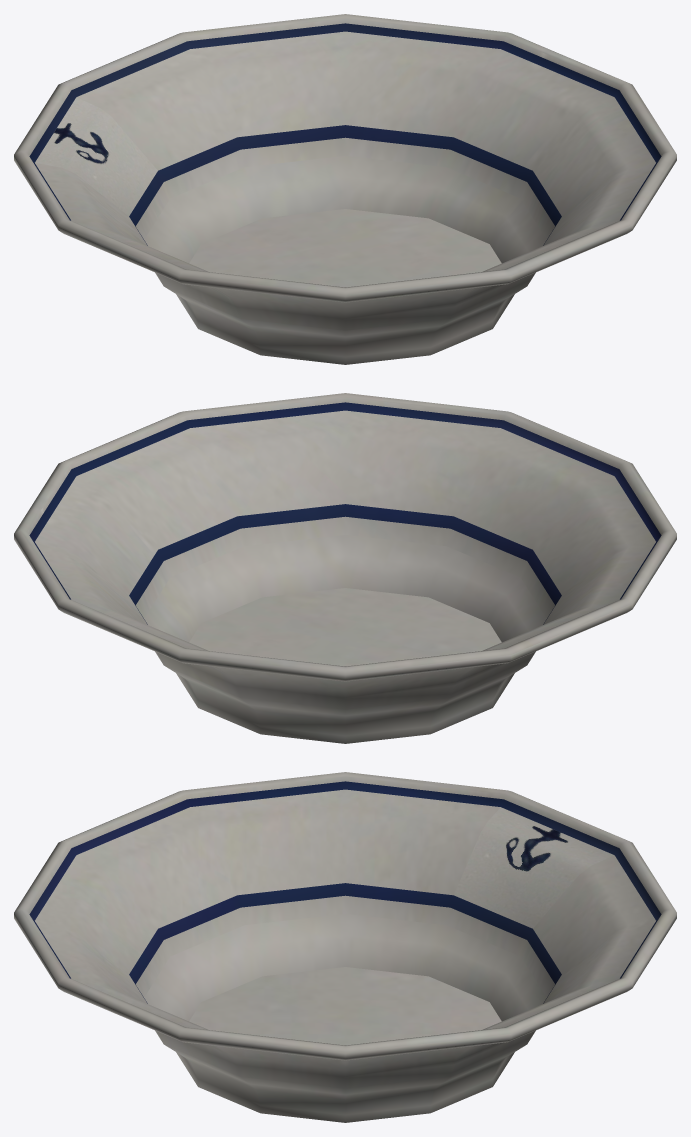
The model's file is Bowl_Galley.obj.
3 renders of one model, top to bottom at view 1: azimuth 30°, elevation 25°; view 2: azimuth 150°, elevation 25°; view 3: azimuth 270°, elevation 25°, orthographic.
Parts seen in each view (by area): view 1: Bowl_Galley.obj; view 2: Bowl_Galley.obj; view 3: Bowl_Galley.obj.
Part boxes in pixels (box(x1,y1,x2,y2)): Bowl_Galley.obj: box(14, 14, 676, 364); Bowl_Galley.obj: box(14, 393, 676, 743); Bowl_Galley.obj: box(14, 772, 676, 1122).
Size of the model in its own units: 26.08 by 6.15 by 26.08.
